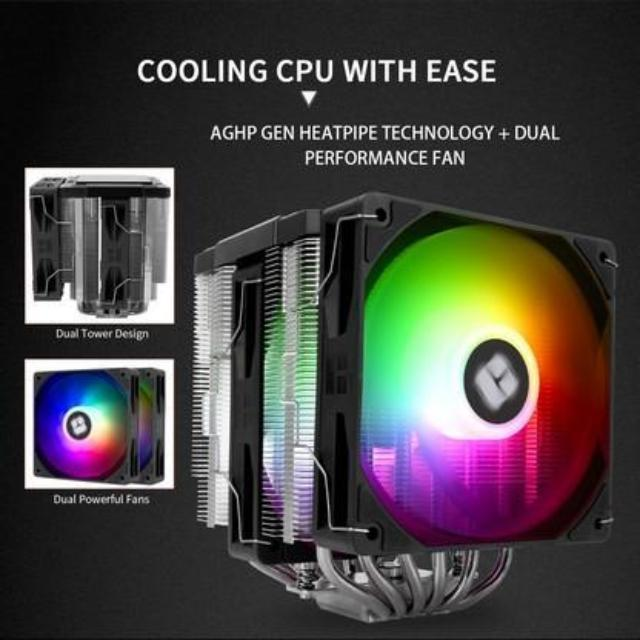CPU_Fan: (184, 183, 626, 628), (27, 174, 176, 314), (32, 362, 172, 488)
